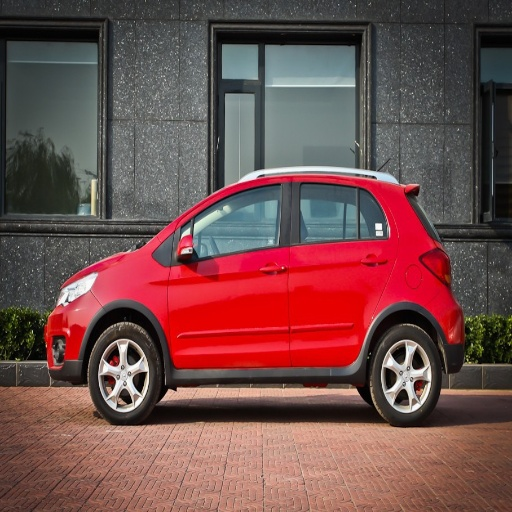back_left_door: (291, 177, 395, 363)
front_left_door: (168, 178, 294, 365)
